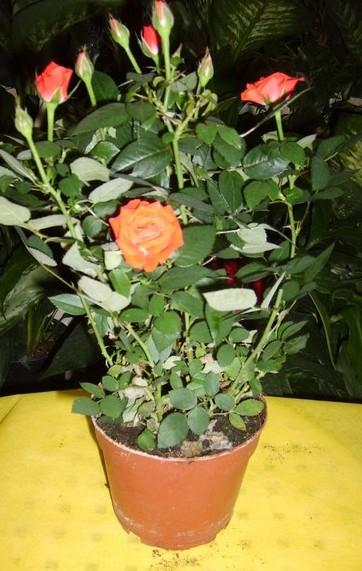Rose: (104, 190, 198, 277), (238, 54, 308, 118), (29, 50, 80, 117)
